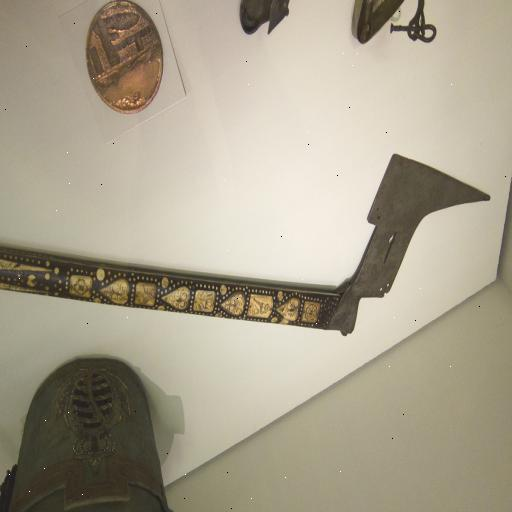Axe: (0, 154, 490, 346)
